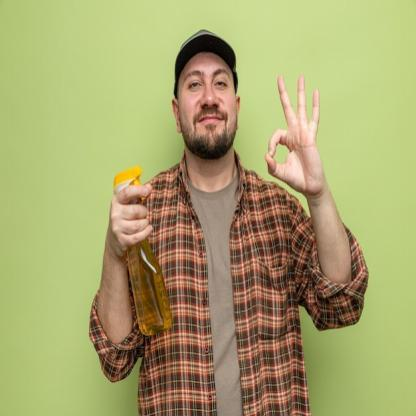ok: (262, 69, 326, 200)
